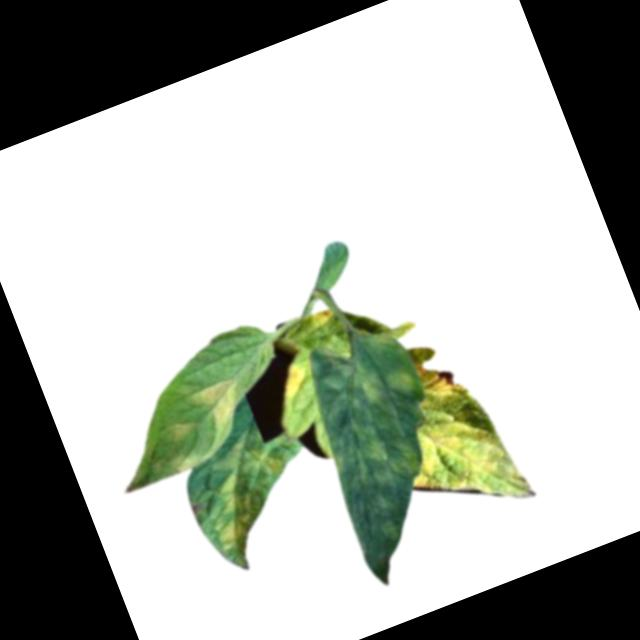Leaf_Mold: (294, 323, 468, 572), (390, 385, 542, 540), (190, 429, 309, 557), (413, 346, 470, 410), (192, 375, 249, 432), (272, 358, 317, 405), (164, 415, 203, 447), (308, 306, 340, 334)
